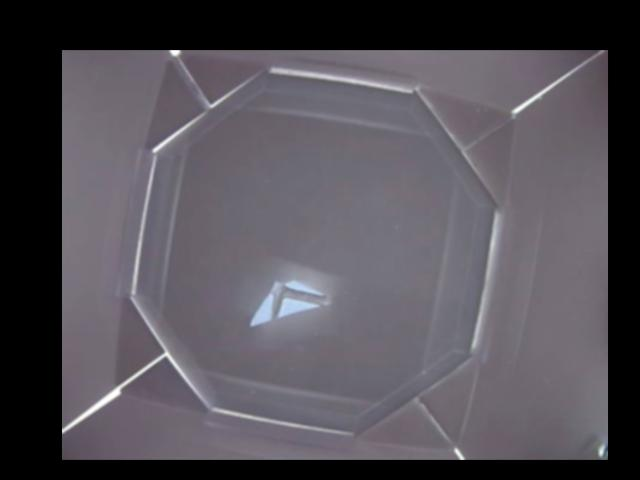China: (248, 282, 329, 327)
